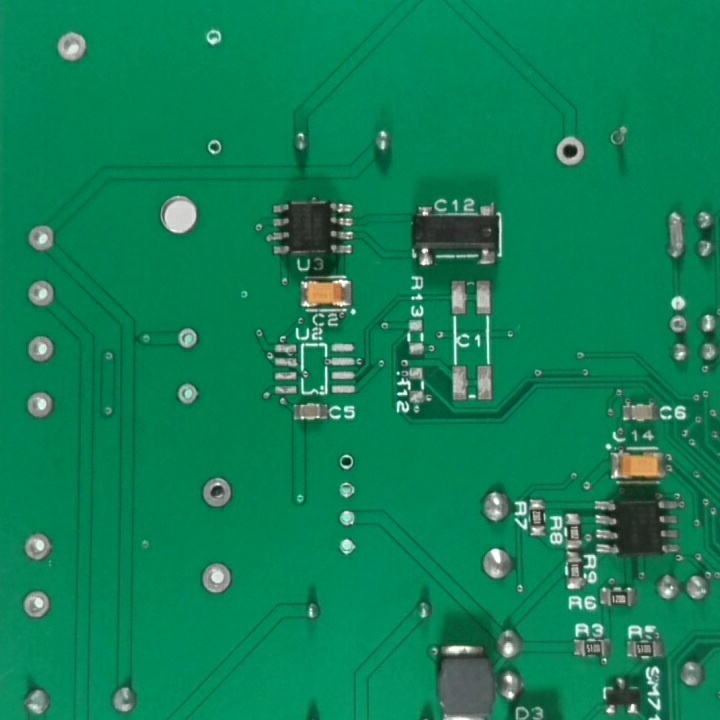F: (199, 472, 239, 513), (198, 561, 238, 598), (22, 219, 59, 256), (54, 29, 89, 66), (553, 134, 587, 170), (20, 591, 56, 624), (22, 390, 59, 422), (24, 334, 59, 366), (22, 532, 55, 563), (25, 278, 58, 308), (174, 325, 202, 355), (604, 122, 631, 151), (173, 382, 201, 406), (202, 24, 227, 49), (667, 312, 690, 339), (336, 538, 361, 560), (335, 507, 358, 529), (336, 480, 359, 501), (206, 136, 224, 161), (336, 452, 355, 472)
P: (663, 209, 689, 264)
